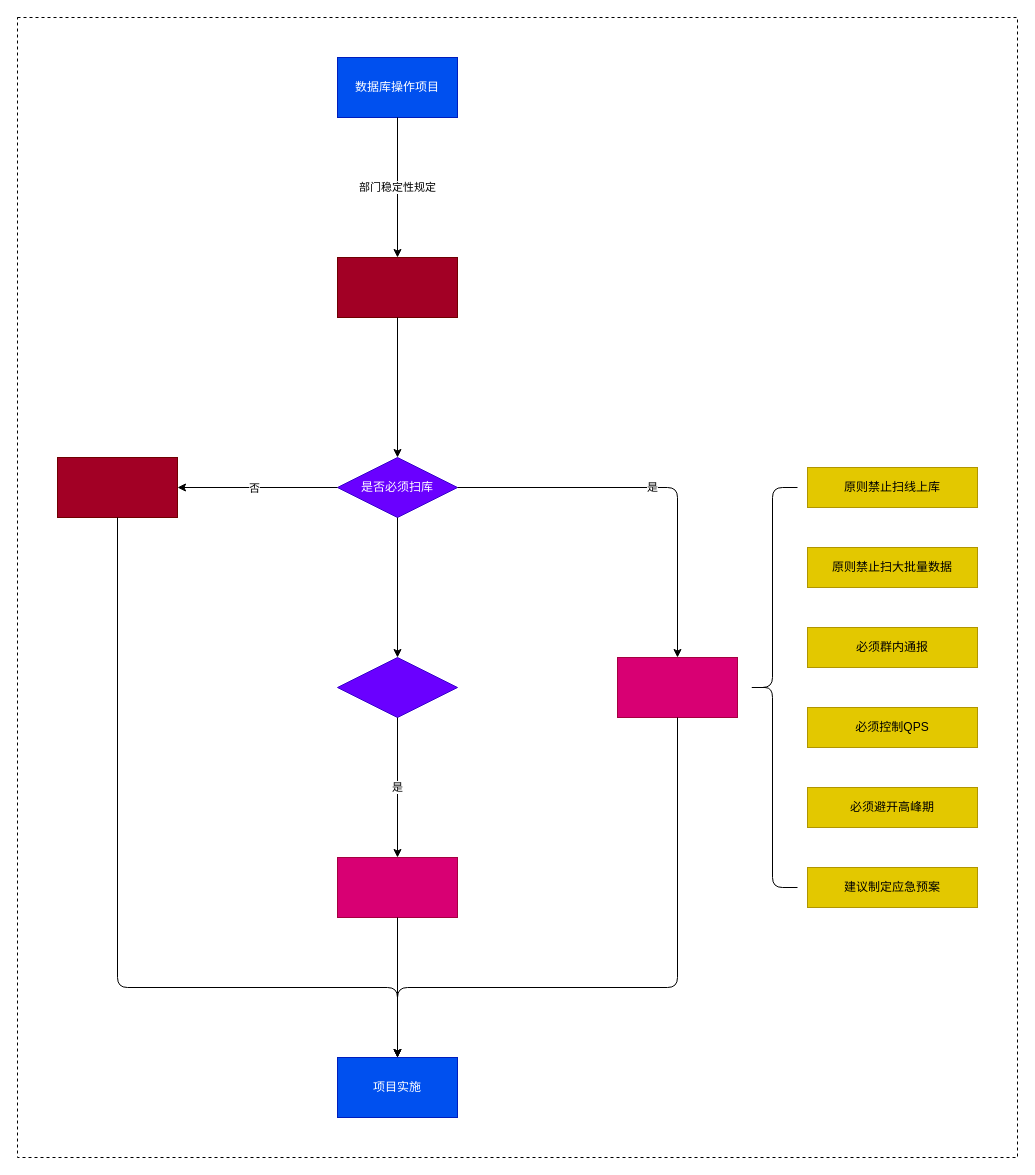
Image size: 1035x1175. Some labels were removed from this diagram. The shapes that lost their labels are listed below. From the top down, each one's centre as x and y in pixels, then its label:
[397,287]: 原则：禁止扫库扫表
[117,487]: 设计替代方案
[397,687]: 必须走线上库
[677,687]: T3 负责人审批
[397,887]: T2 负责人审批
